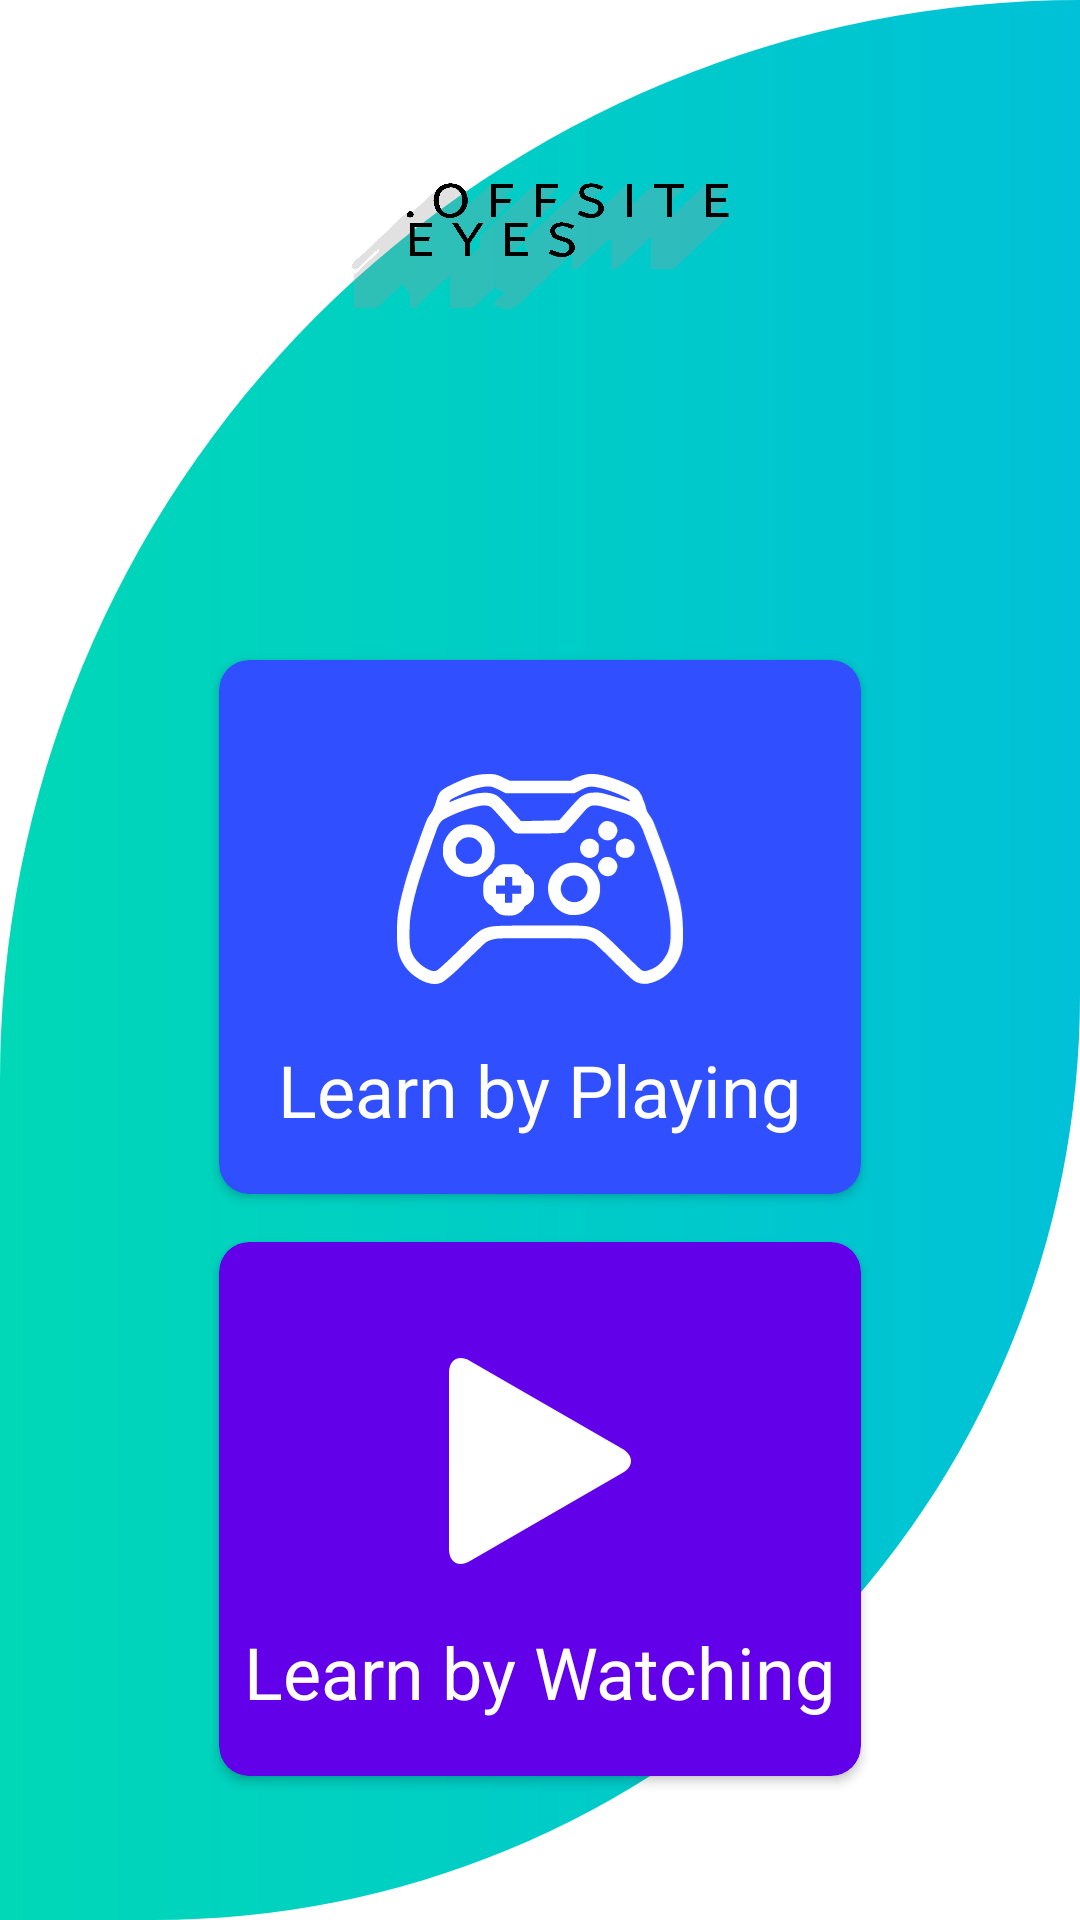

Locate icon controls on the screen. Image size 1080x1920, boxes as (x1, y1, x2, y2).
gamepad: (397, 774, 683, 984)
tutorials play: (449, 1358, 631, 1564)
